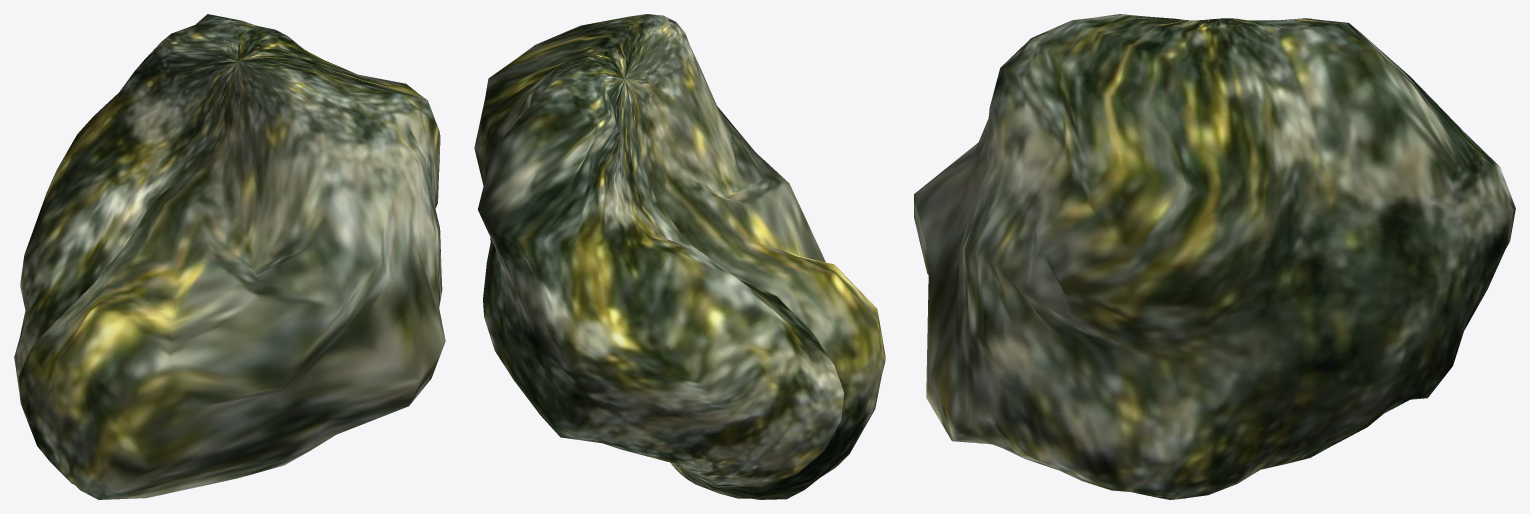
Rendered from Meteo_03.fbx.
3 renders of one model, left to right at view 1: azimuth 30°, elevation 25°; view 2: azimuth 150°, elevation 25°; view 3: azimuth 270°, elevation 25°, orthographic. The views are drawn at different scales.
Parts seen in each view (by area): view 1: Meteo_03; view 2: Meteo_03; view 3: Meteo_03.
Part boxes in pixels (box(x1,y1,x2,y2)): Meteo_03: box(14, 14, 445, 499); Meteo_03: box(474, 14, 885, 499); Meteo_03: box(914, 14, 1515, 499).
Bounding box in the file's own units: 218 × 218 × 223.
